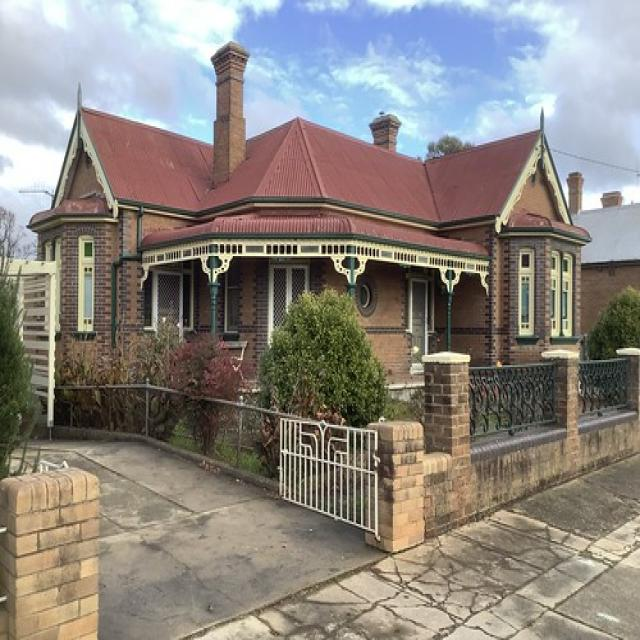Normal_building: (24, 26, 592, 558)
